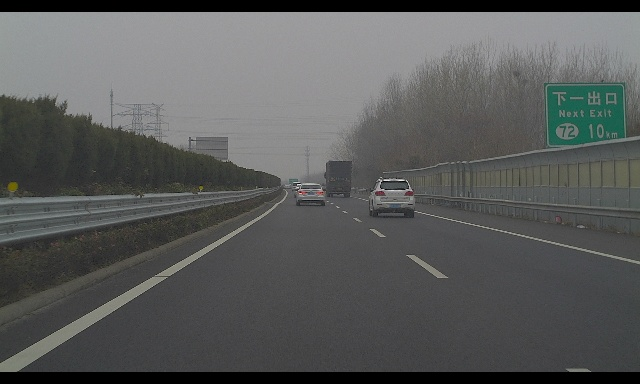car: (366, 177, 415, 217), (294, 183, 326, 206), (291, 182, 301, 191), (284, 184, 290, 189)
truck: (324, 160, 352, 197)
